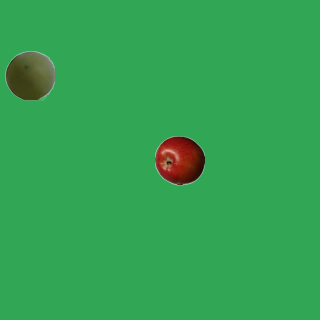Apple Braeburn: (154, 135, 204, 185)
Grape White 4: (4, 50, 54, 100)
